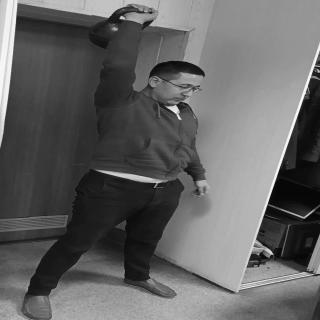kettlebell: (91, 7, 157, 52)
